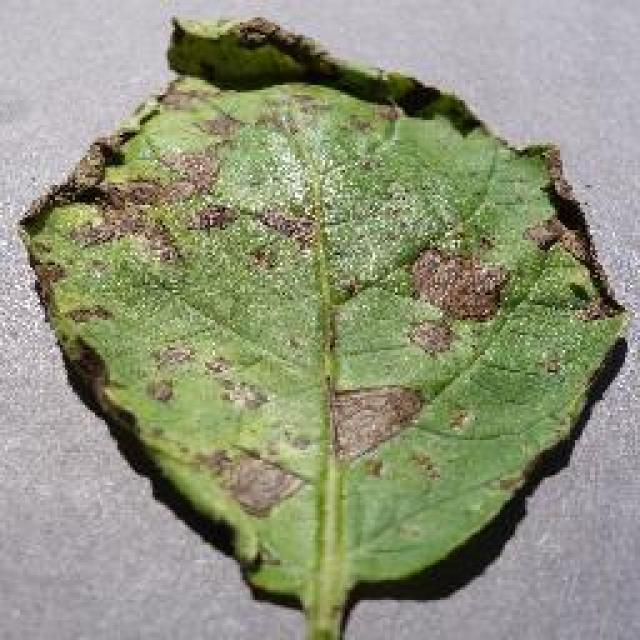early_blight: (12, 10, 632, 638)
